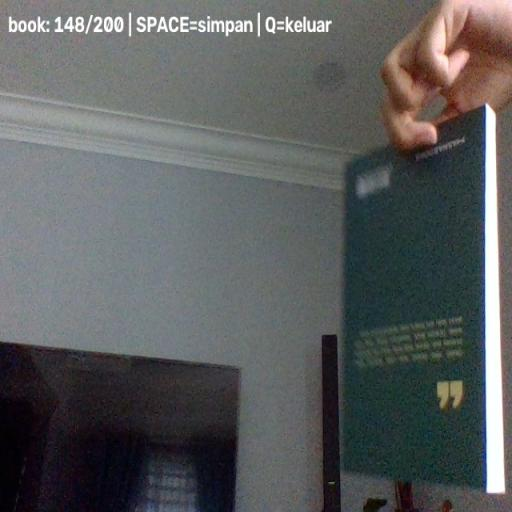Book: (342, 103, 504, 495)
